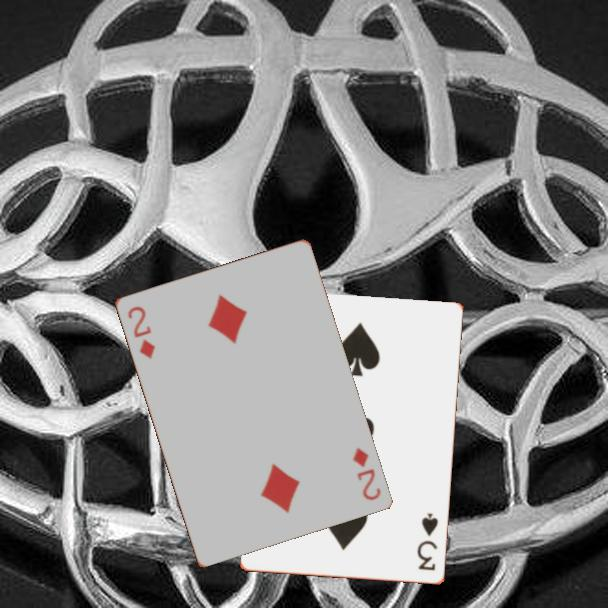d02: (348, 444, 383, 503), (124, 302, 158, 361)
s03: (414, 510, 441, 574)
